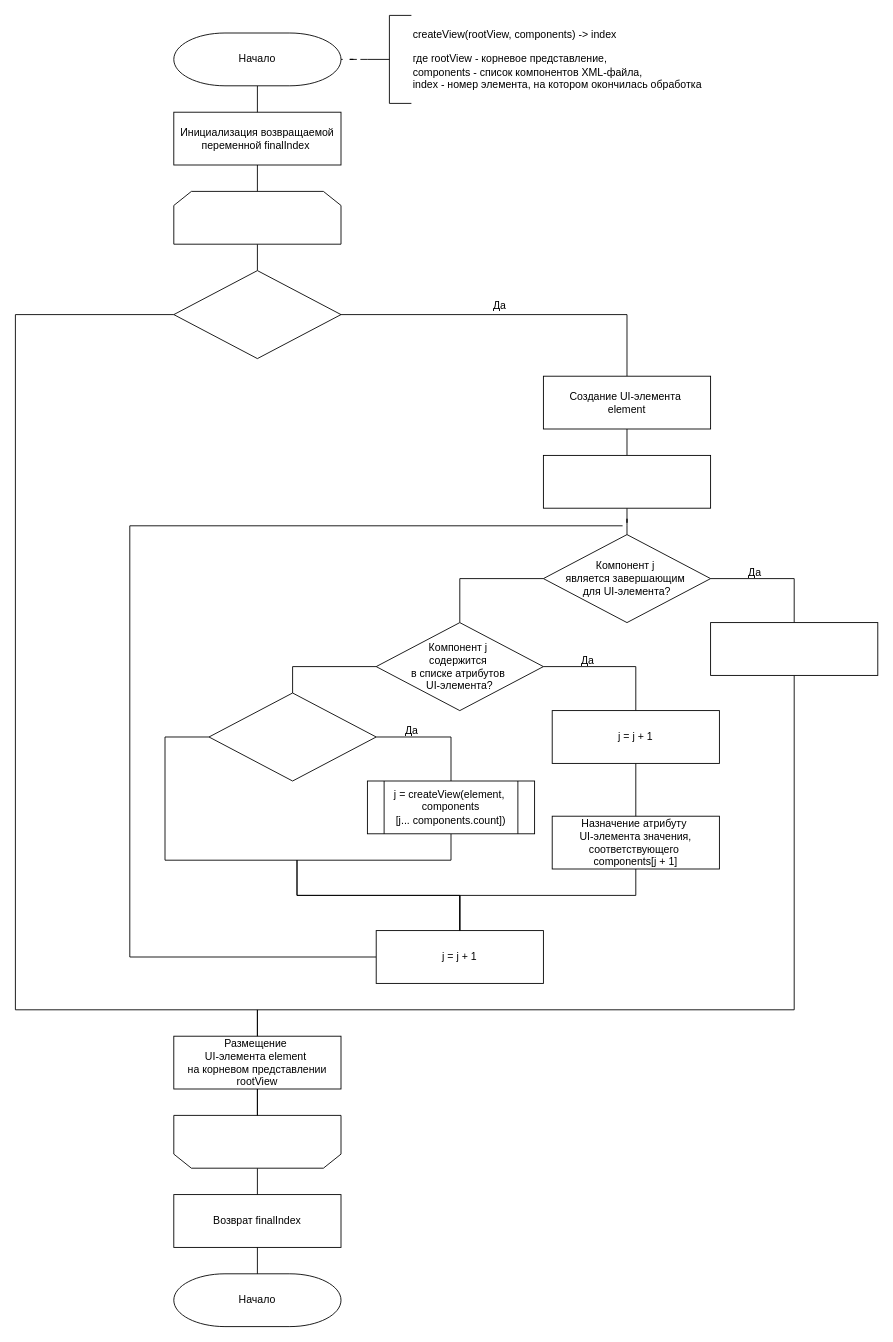
Some shapes in this 893 by 1342 pixel diagram are drawn without their labels. Here are the shapes that lost their labels. From the top down, the box of each, then its label:
(173, 191, 341, 244): Цикл i от 0 до components.count
(173, 270, 341, 359): Компонент i содержится в списке UI-элементов?
(543, 455, 711, 508): j = i + 1
(710, 622, 878, 675): finalIndex = j
(208, 692, 376, 781): Компонент j содержится в списке UI-элементов?
(173, 1115, 341, 1168): Увеличить i на 1 Цикл i
